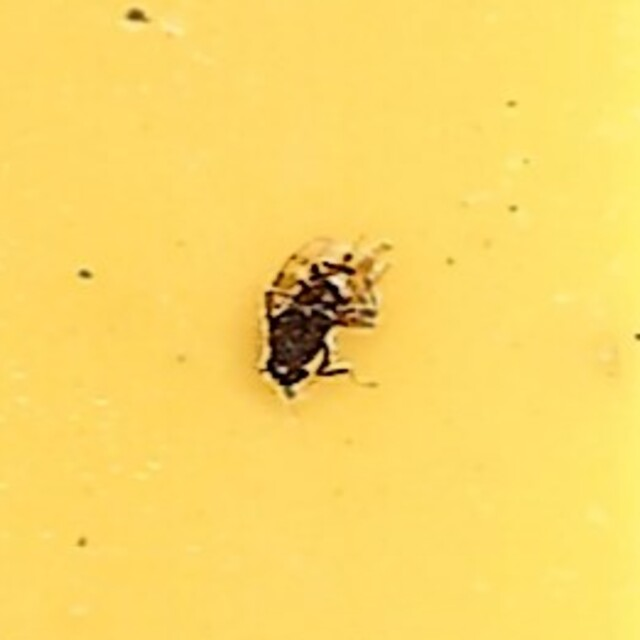Brachycera: (245, 234, 395, 406)
